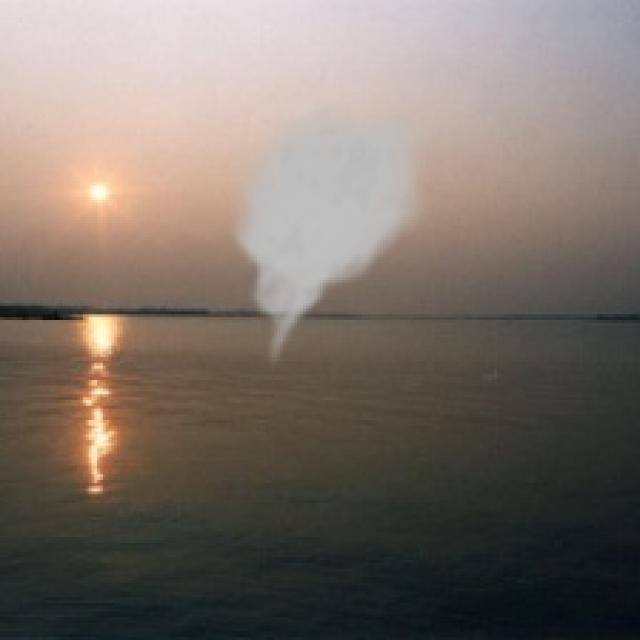Smoke: (226, 100, 434, 372)
